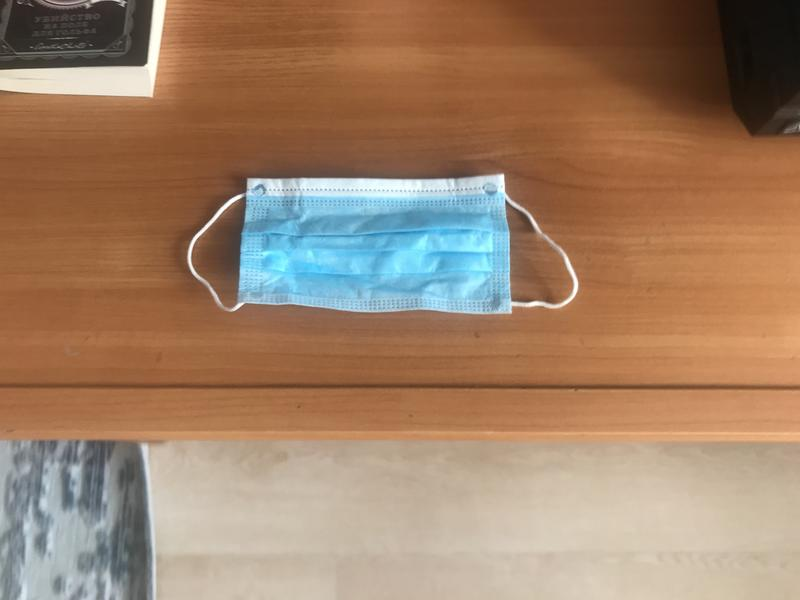medical_mask: (187, 172, 579, 316)
